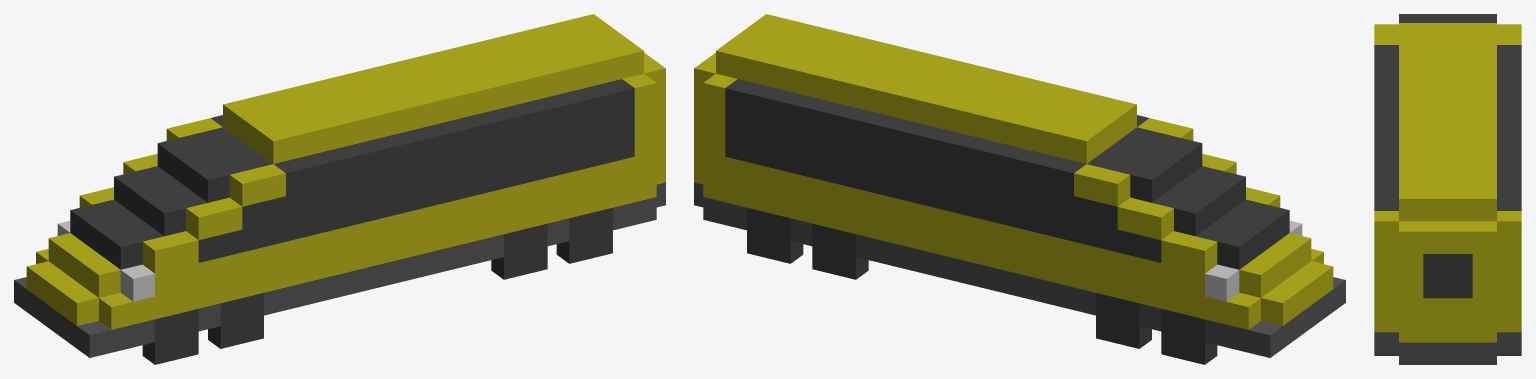
Rendered from train-v1-yellow.gltf.
3 renders of one model, left to right at view 1: azimuth 30°, elevation 25°; view 2: azimuth 150°, elevation 25°; view 3: azimuth 270°, elevation 25°, orthographic. The views are drawn at different scales.
Parts seen in each view (by area): view 1: model, wheels; view 2: model, wheels; view 3: model.
Boxes of the visible parts, x1,y1,x2,y2 form: model: [14, 14, 665, 357]; wheels: [142, 207, 612, 364]; model: [694, 14, 1345, 357]; wheels: [747, 207, 1217, 364]; model: [1374, 14, 1521, 364].
Size of the model in its own units: 2.7 by 0.8 by 0.6.
Materials: 2 (2 with a texture image).
